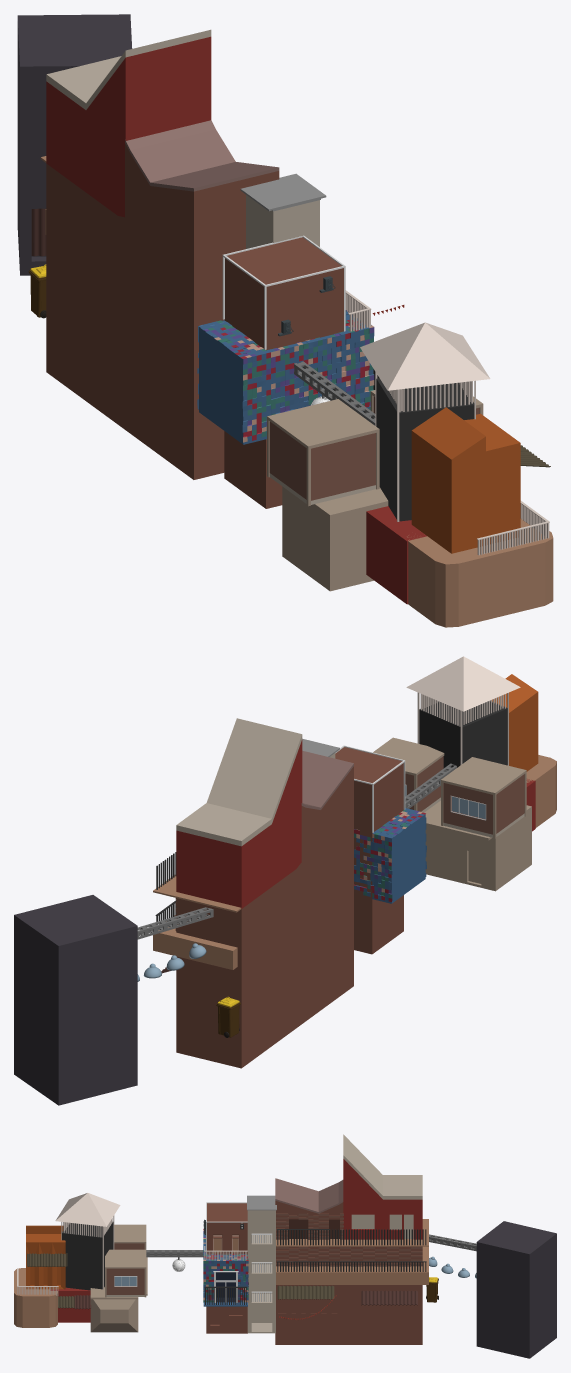
File: CorrectPleinHolzmarkt.fbx
The picture shows the model from 3 angles, top to bottom: view 1: azimuth 30°, elevation 25°; view 2: azimuth 150°, elevation 25°; view 3: azimuth 270°, elevation 25°; orthographic projection. The views are drawn at different scales.
Visible parts, largest first — view 1: Cube.010, Cube.011, Cube.014, Cube.005, Cube.008, Cube.032, Cube.006, Cube.004, Cube.071, Cone.004, Cube.003, Cube.009 (+7 smaller); view 2: Cube.010, Cube.032, Cube.011, Cube.008, Cube.004, Cube.014, Cube.003, Cube.071, Cone.004, Cube.005, Cube.072, Cube.012 (+10 smaller); view 3: Cube.010, Cube.032, Cube.011, Cube.009, Cube.008, Cube.012, Cube.003, Cube.014, Cube.005, Cube.004, Cube.006, Cone.004 (+24 smaller).
Boxes of the visible parts, box(x1,y1,x2,y2) form: Cube.010: box(46, 120, 279, 479); Cube.011: box(46, 29, 211, 217); Cube.014: box(197, 310, 374, 444); Cube.005: box(411, 407, 520, 553); Cube.008: box(224, 237, 343, 508); Cube.032: box(17, 14, 132, 275); Cube.006: box(407, 518, 553, 627); Cube.004: box(282, 486, 388, 591); Cube.071: box(269, 421, 375, 504); Cone.004: box(360, 322, 490, 390); Cube.003: box(376, 378, 474, 521); Cube.009: box(240, 173, 326, 248); Cube.010: box(175, 750, 353, 1068); Cube.032: box(14, 895, 137, 1105); Cube.011: box(176, 718, 302, 908); Cube.008: box(335, 747, 403, 954); Cube.004: box(424, 800, 531, 891); Cube.014: box(354, 808, 426, 903); Cube.003: box(419, 701, 507, 768); Cube.071: box(443, 774, 524, 837); Cone.004: box(406, 656, 520, 711); Cube.005: box(492, 674, 538, 771); Cube.072: box(441, 757, 526, 838); Cube.012: box(153, 915, 237, 969); Cube.010: box(275, 1178, 422, 1344); Cube.032: box(476, 1221, 556, 1358); Cube.011: box(343, 1134, 422, 1239); Cube.009: box(247, 1195, 276, 1333); Cube.008: box(206, 1203, 247, 1333); Cube.012: box(276, 1246, 428, 1284); Cube.003: box(62, 1222, 113, 1290); Cube.014: box(203, 1229, 248, 1306); Cube.005: box(26, 1225, 65, 1289); Cube.004: box(90, 1257, 147, 1332); Cube.006: box(14, 1268, 57, 1327); Cone.004: box(55, 1193, 120, 1226).
Bounding box in the file's own units: 1539 × 2066 × 5353.
